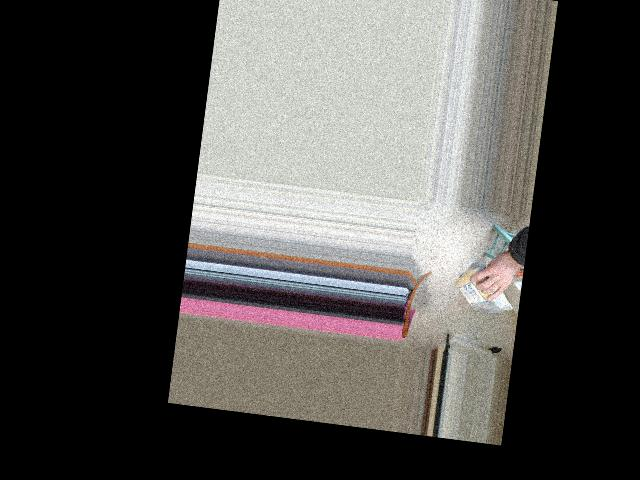cheese: (453, 263, 516, 314)
